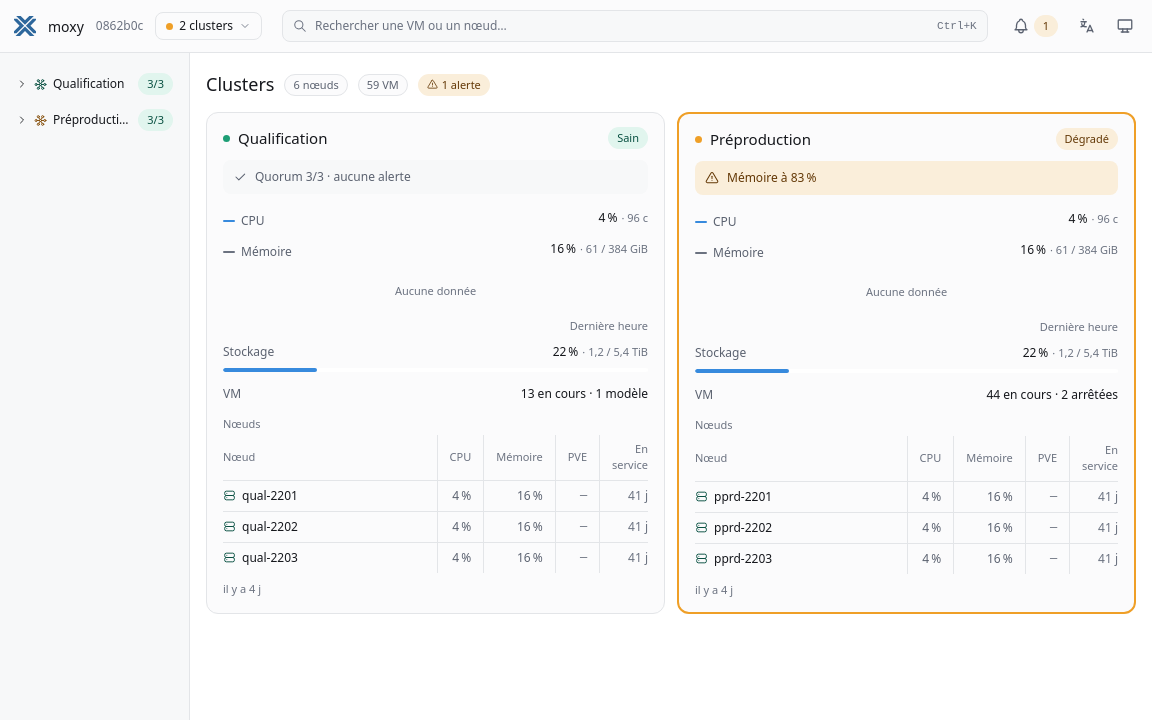
Scenario: App, in the browser's language › switches the whole interface when the language is picked
Click the button named "Langue". click: [1087, 26]
box: [1074, 13, 1100, 39]
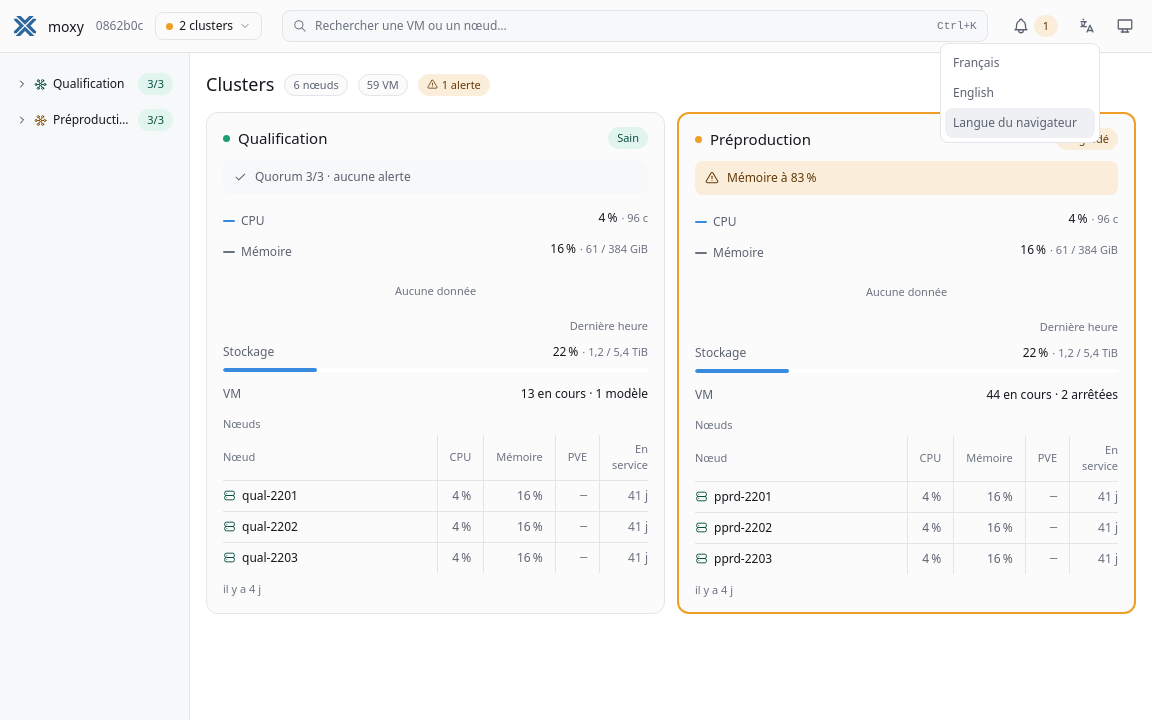
Click the menu item "English". click: [1020, 93]
box: [945, 78, 1095, 108]
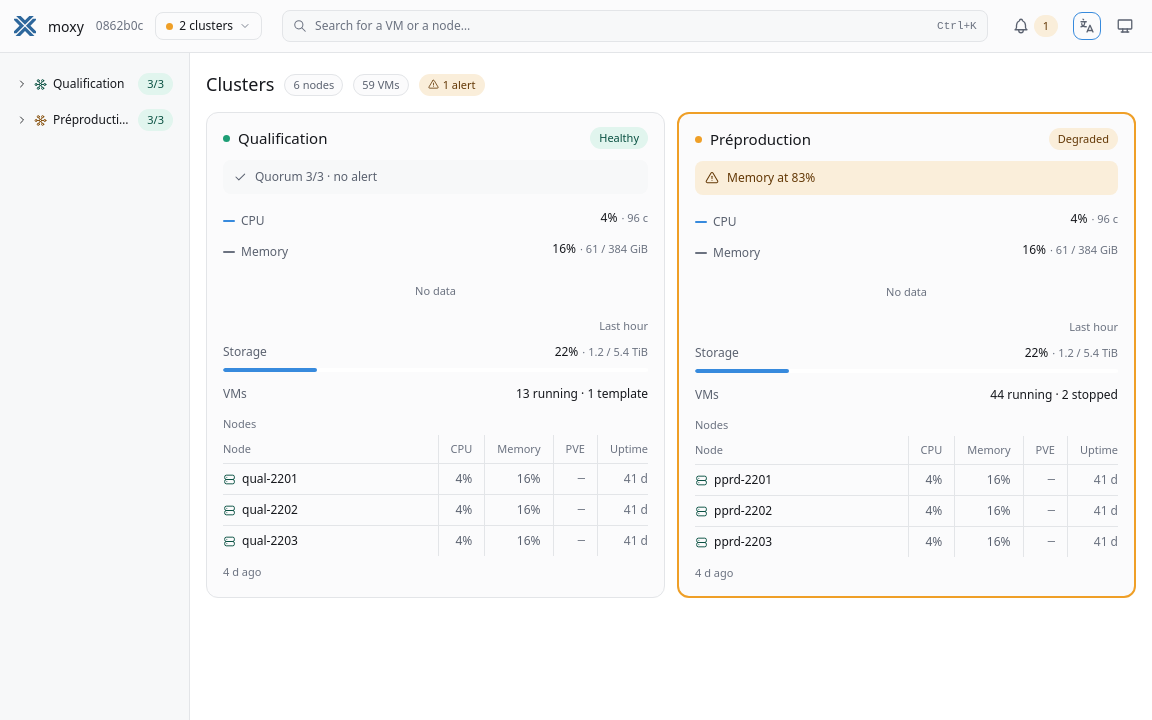
Expected: the element named "Cluster tree" is shown, [8, 63, 181, 135]
Now the search field with placeholder "Search for a VM or a node…" is shown, box [315, 17, 929, 35]
